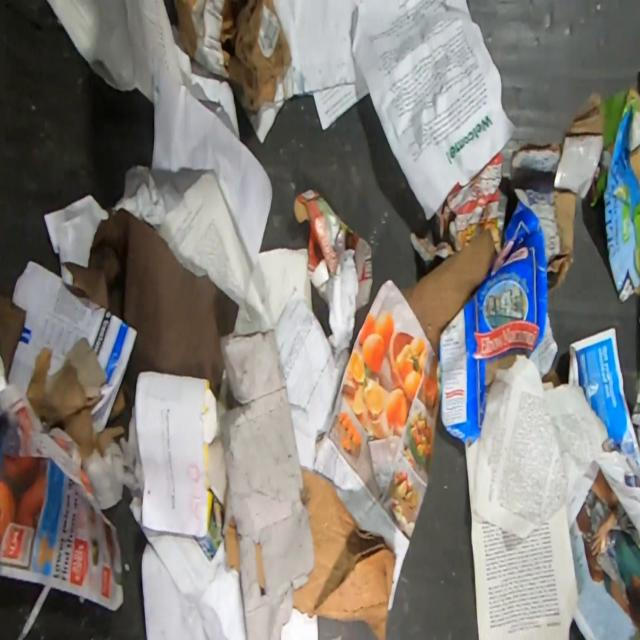cardboard: (438, 186, 577, 448), (219, 326, 316, 640), (509, 86, 640, 305), (7, 258, 139, 433), (294, 468, 398, 640), (172, 0, 291, 113), (398, 228, 498, 359), (24, 335, 127, 458), (292, 188, 373, 311), (225, 516, 239, 572)
